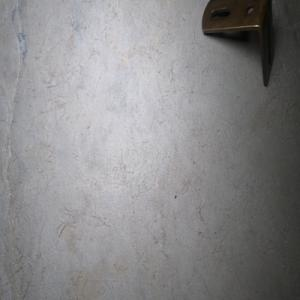MetalPart: (200, 0, 276, 88)
